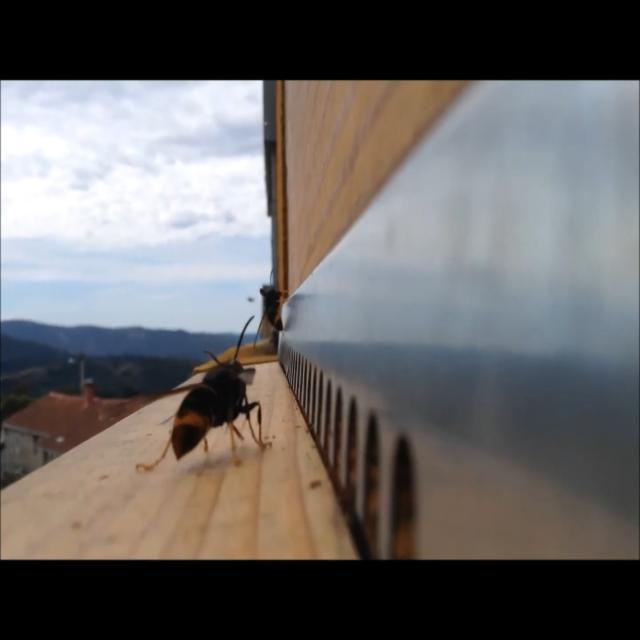Hornets: (139, 314, 278, 471), (248, 266, 287, 354)
